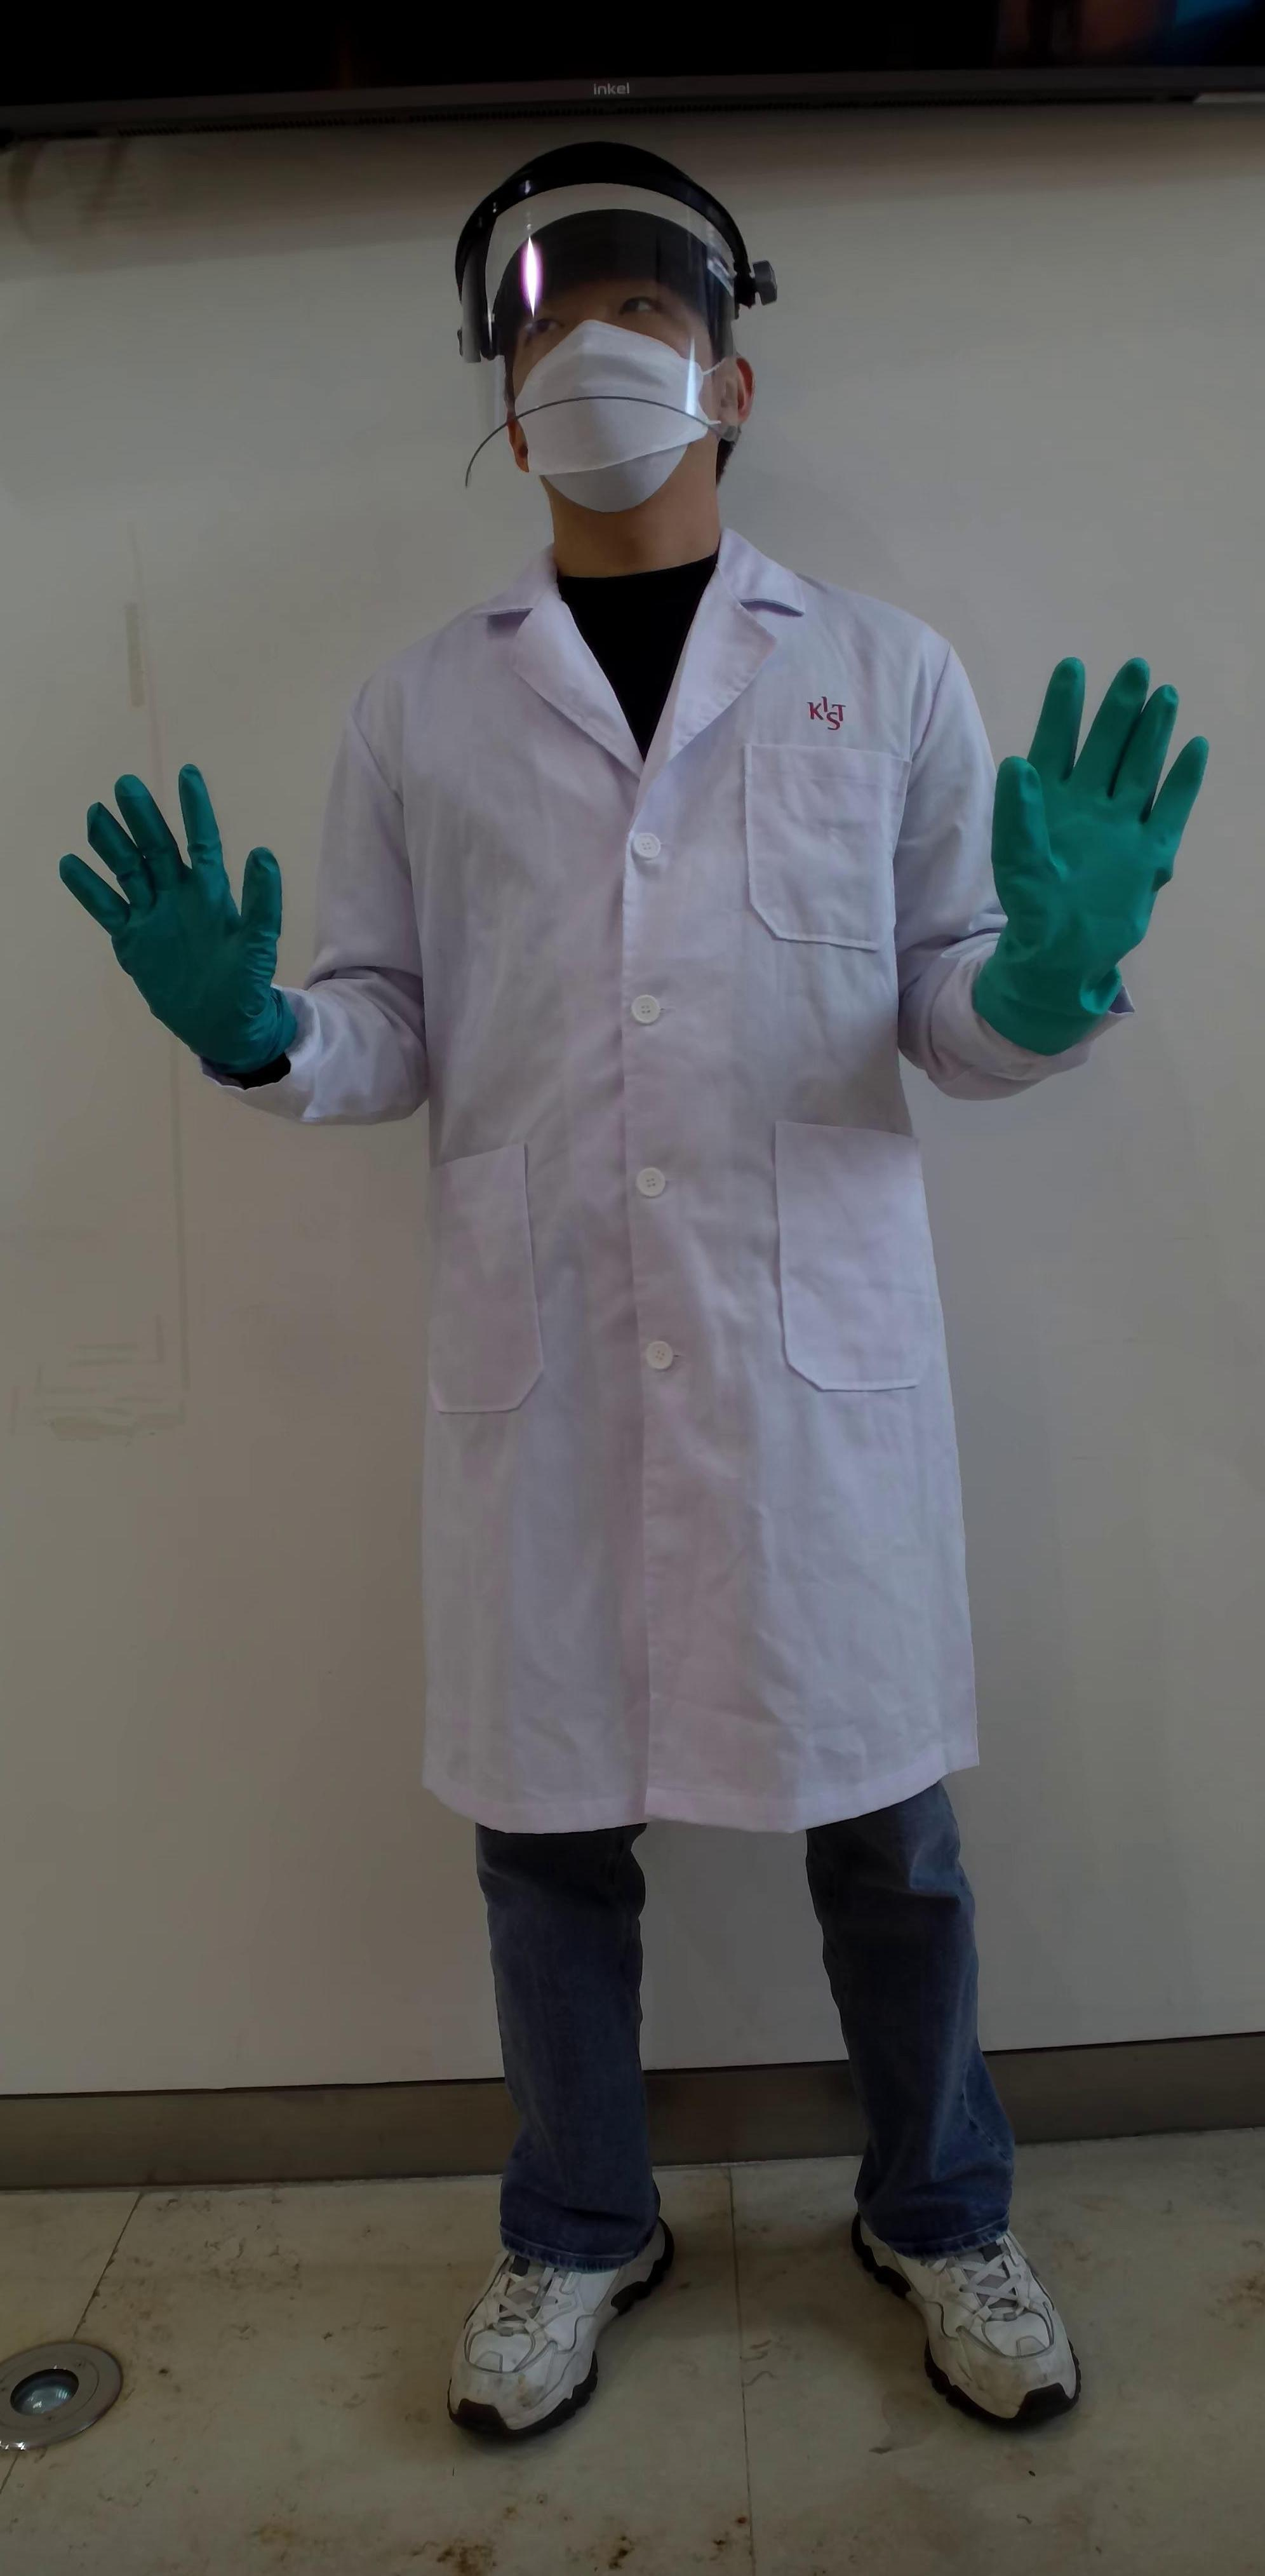lab_coat: (376, 649, 987, 1805)
